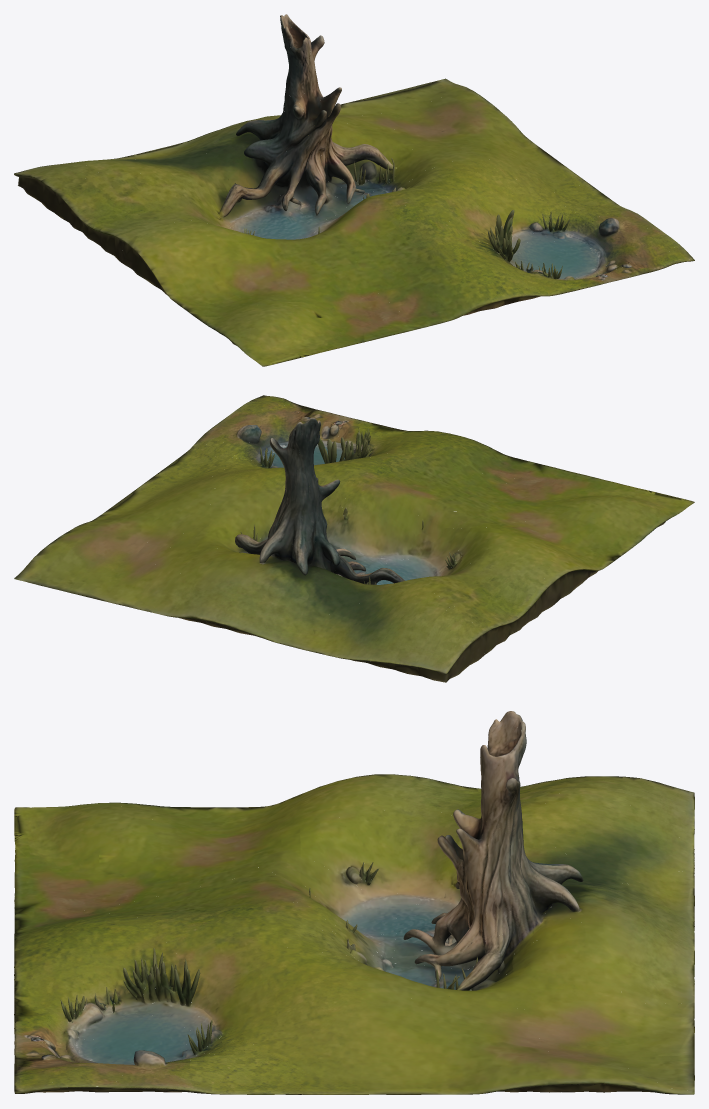
The model's file is terrain.glb.
3 renders of one model, top to bottom at view 1: azimuth 30°, elevation 25°; view 2: azimuth 150°, elevation 25°; view 3: azimuth 270°, elevation 25°, orthographic. The views are drawn at different scales.
Parts seen in each view (by area): view 1: tripo_node_32334748-c808-46b8-bea0-4e0817b4cbf0; view 2: tripo_node_32334748-c808-46b8-bea0-4e0817b4cbf0; view 3: tripo_node_32334748-c808-46b8-bea0-4e0817b4cbf0.
Part boxes in pixels (<box>): tripo_node_32334748-c808-46b8-bea0-4e0817b4cbf0: <box>14,14,694,366</box>; tripo_node_32334748-c808-46b8-bea0-4e0817b4cbf0: <box>14,395,694,682</box>; tripo_node_32334748-c808-46b8-bea0-4e0817b4cbf0: <box>14,711,694,1094</box>.
Size of the model in its own units: 100 by 39.76 by 100.
Materials: 1 (1 with a texture image).
